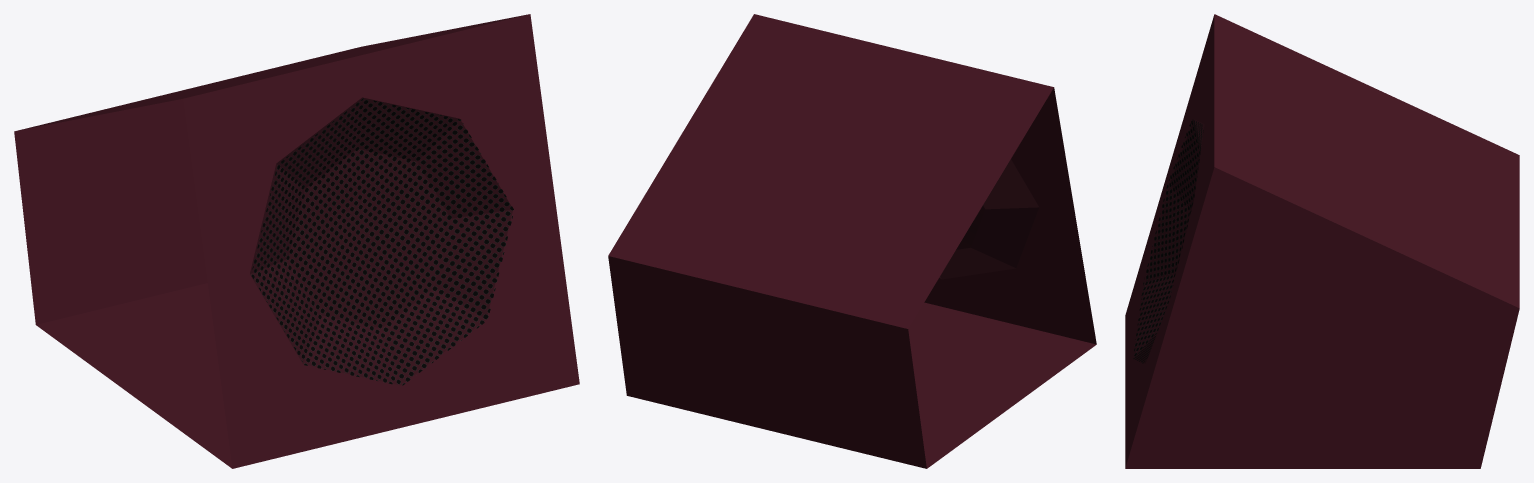
Rendered from Itr_Obj_Speaker2_Right_04.FBX.
3 renders of one model, left to right at view 1: azimuth 30°, elevation 25°; view 2: azimuth 150°, elevation 25°; view 3: azimuth 270°, elevation 25°, orthographic. The views are drawn at different scales.
Parts seen in each view (by area): view 1: Itr_Obj_Speaker2_Right_04; view 2: Itr_Obj_Speaker2_Right_04; view 3: Itr_Obj_Speaker2_Right_04.
Boxes of the visible parts, x1=… form: Itr_Obj_Speaker2_Right_04: x1=14, y1=14, x2=579, y2=468; Itr_Obj_Speaker2_Right_04: x1=608, y1=14, x2=1096, y2=468; Itr_Obj_Speaker2_Right_04: x1=1125, y1=14, x2=1519, y2=468.
Size of the model in its own units: 10.38 by 9.54 by 11.31.
